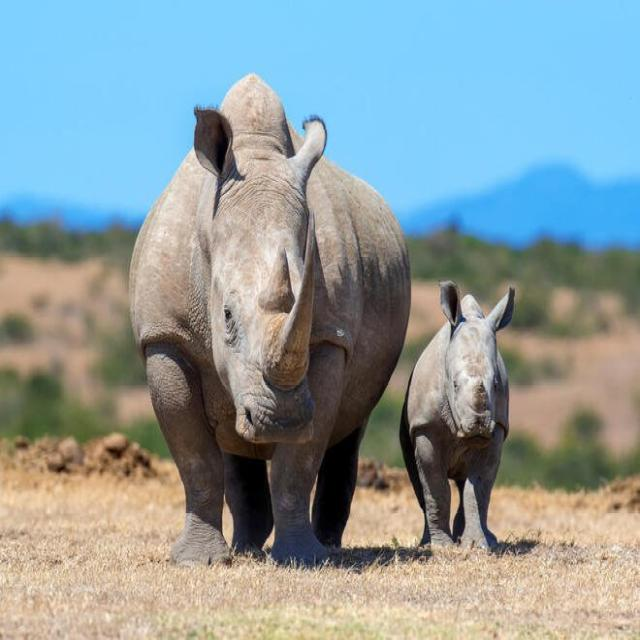rhinoceros: (129, 74, 409, 564), (400, 281, 514, 547)
